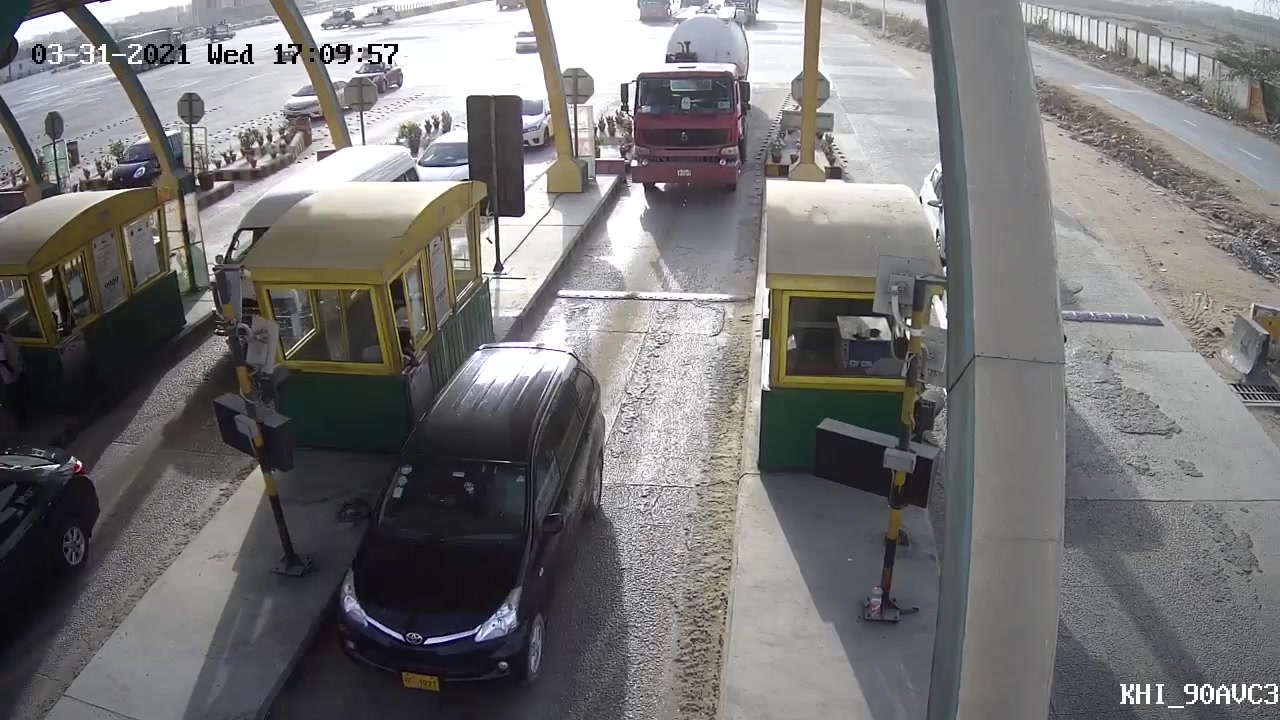F1: (320, 336, 624, 699)
